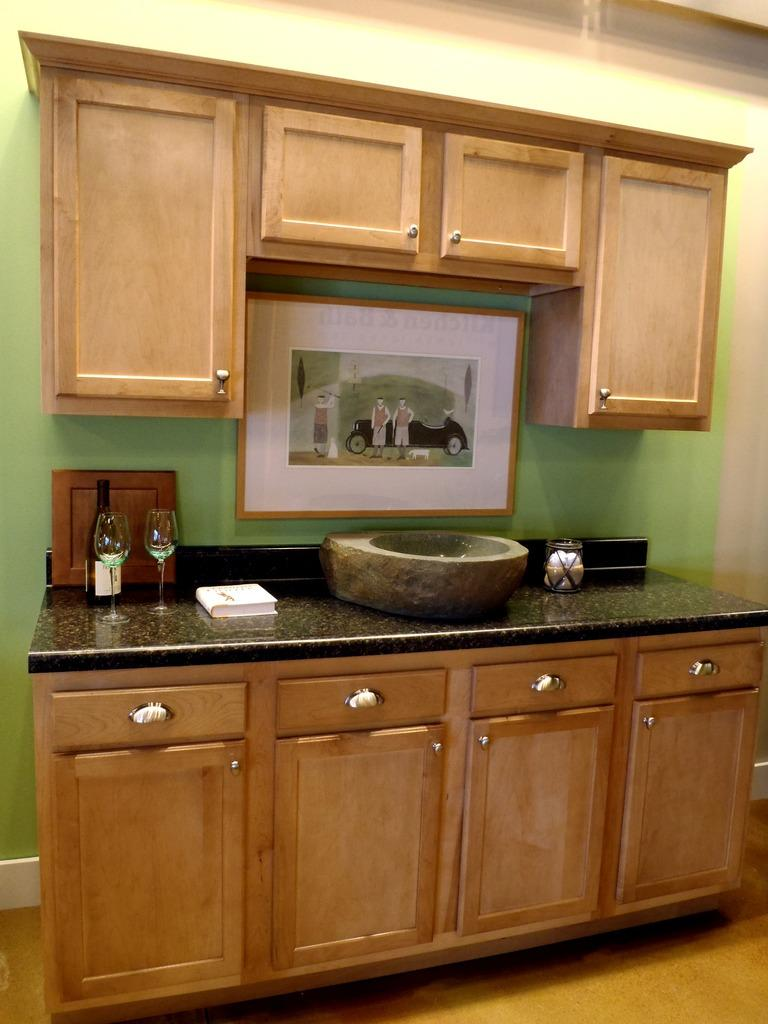cabinet_door: (60, 88, 230, 402), (52, 745, 242, 984), (276, 746, 439, 928), (604, 178, 704, 420), (470, 726, 597, 912), (269, 121, 417, 249), (638, 706, 738, 888), (449, 150, 580, 268), (55, 697, 242, 734), (284, 682, 438, 726), (475, 664, 611, 710), (647, 638, 757, 692)
handle: (342, 678, 382, 716), (131, 698, 178, 726), (531, 671, 574, 694), (691, 650, 724, 678), (213, 362, 232, 400), (423, 728, 442, 765), (450, 224, 468, 252), (407, 210, 419, 248), (598, 384, 612, 415), (639, 708, 657, 732), (475, 728, 490, 754), (229, 755, 243, 782)
